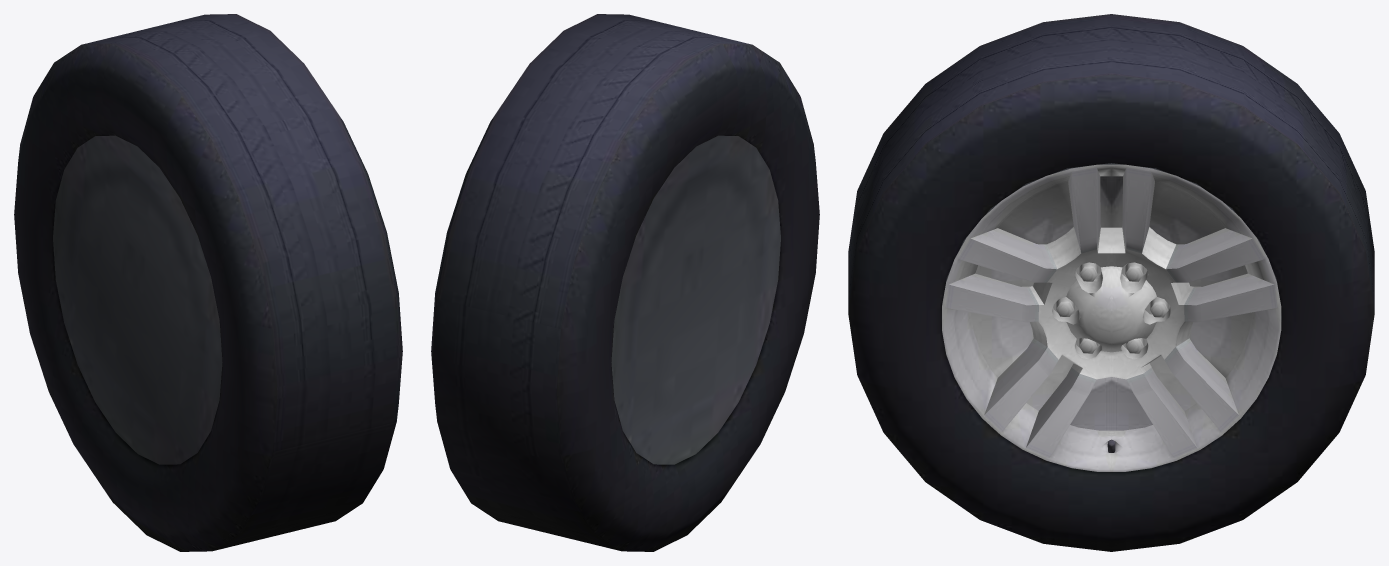
File: chelun.obj
The picture shows the model from 3 angles, left to right: view 1: azimuth 30°, elevation 25°; view 2: azimuth 150°, elevation 25°; view 3: azimuth 270°, elevation 25°; orthographic projection.
Visible parts, largest first — view 1: Object001; view 2: Object001; view 3: Object001.
Part boxes in pixels (x1,y1,x2,y2): Object001: (14,14,402,551); Object001: (431,14,819,551); Object001: (848,14,1374,551).
Bounding box in the file's own units: 26.38 × 76.73 × 76.73.
Materials: 1 (1 with a texture image).
